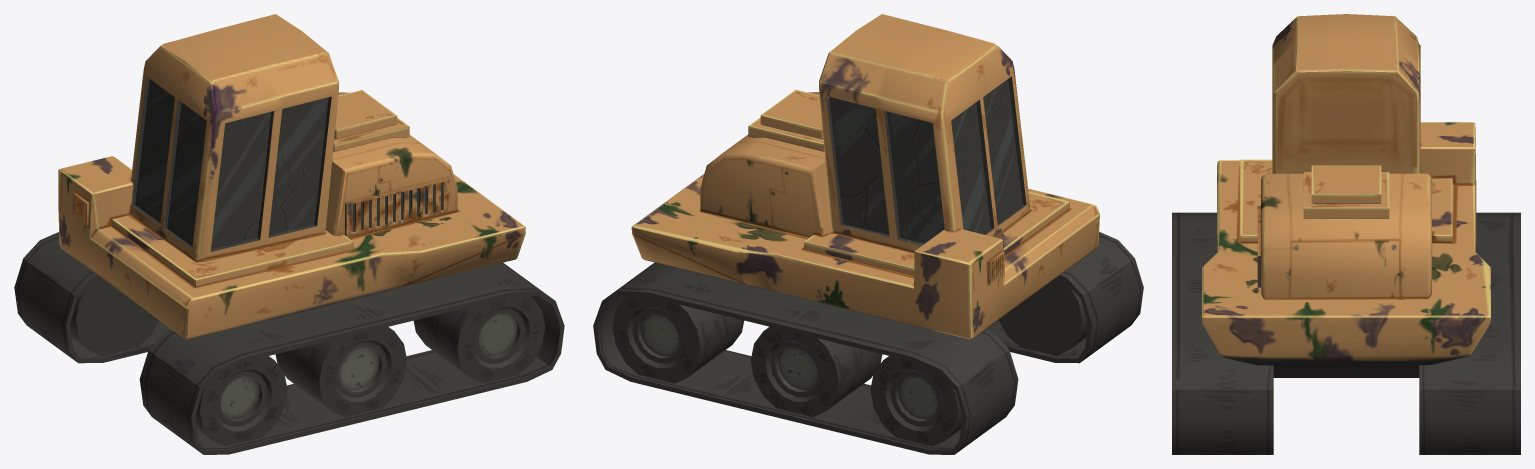
The model's file is kütük ilk blender a.fbx.
3 renders of one model, left to right at view 1: azimuth 30°, elevation 25°; view 2: azimuth 150°, elevation 25°; view 3: azimuth 270°, elevation 25°, orthographic.
Parts seen in each view (by area): view 1: Cube.022; view 2: Cube.022; view 3: Cube.022.
Part boxes in pixels (bbox=[...]): Cube.022: bbox=[14, 14, 564, 454]; Cube.022: bbox=[593, 14, 1143, 454]; Cube.022: bbox=[1172, 14, 1520, 454].
Bounding box in the file's own units: 768 × 629 × 630.
Materials: 1 (1 with a texture image).
